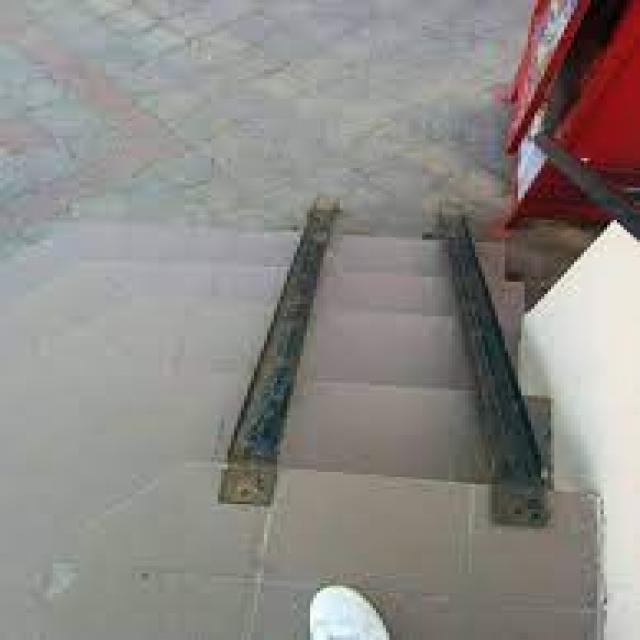CLIMB: (213, 194, 549, 530)
